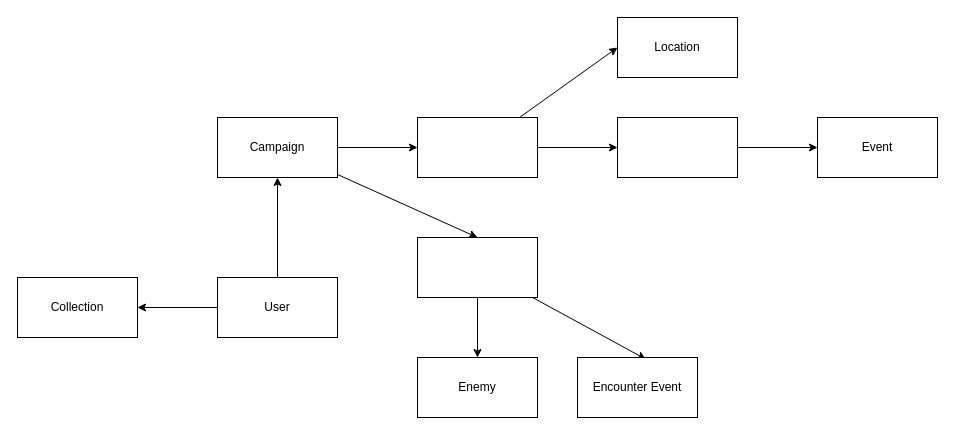
The diagram is 955 pixels wide and 435 high, and some of its shapes have lost their labels. The box of each missing label's shape, as (x1, y1, x2, y2) in pixels:
Encouter pack: (416, 236, 538, 298)
Result: (616, 116, 738, 178)
Scenario: (416, 116, 538, 178)
